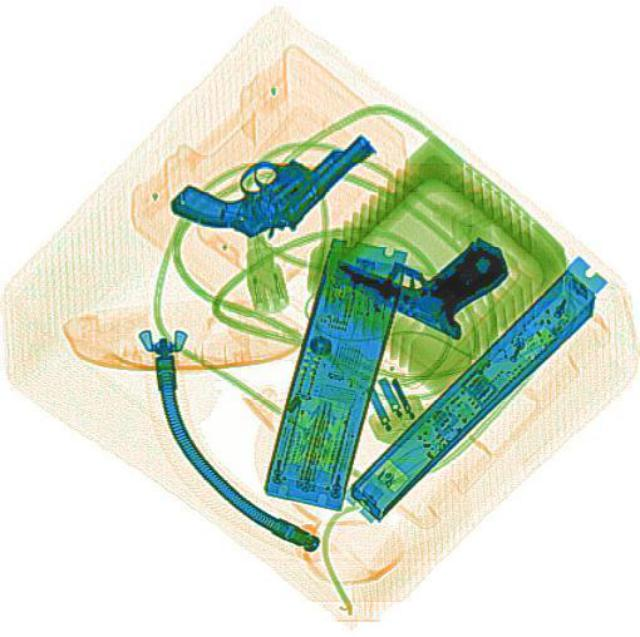Gun: (162, 76, 376, 275), (324, 185, 516, 344)
